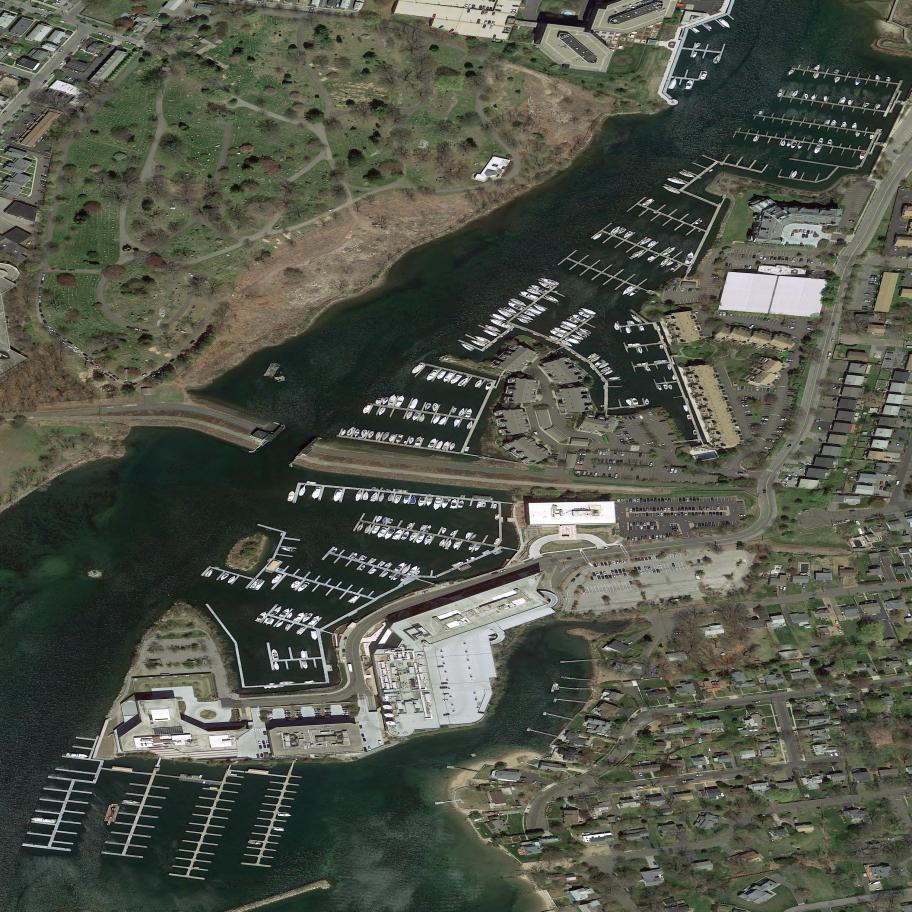large-vehicle: (144, 374, 158, 382), (346, 663, 354, 673), (695, 573, 701, 581), (378, 739, 382, 745)
ship: (248, 574, 267, 595), (488, 317, 514, 331), (409, 358, 428, 377), (424, 365, 442, 385), (517, 289, 541, 303), (305, 613, 324, 630), (446, 370, 464, 387), (294, 578, 312, 595), (373, 524, 390, 541), (661, 243, 679, 259), (628, 247, 647, 262), (539, 276, 562, 288), (665, 176, 690, 187), (661, 183, 682, 196), (455, 374, 472, 390), (440, 369, 456, 386), (298, 609, 315, 625), (291, 609, 307, 626), (716, 15, 734, 30), (382, 525, 397, 543), (628, 311, 646, 326), (406, 563, 422, 579), (288, 576, 304, 592), (254, 608, 269, 625), (472, 333, 493, 345), (483, 322, 504, 334), (393, 559, 408, 575), (269, 603, 285, 618), (620, 283, 637, 297), (458, 342, 477, 354), (491, 312, 510, 324), (557, 337, 576, 349), (495, 308, 514, 320), (501, 304, 520, 316), (269, 571, 284, 586), (385, 391, 398, 408), (311, 485, 324, 502), (391, 526, 404, 543), (637, 235, 654, 248), (569, 312, 589, 323), (509, 296, 529, 307), (529, 283, 549, 294), (548, 328, 566, 340), (360, 402, 374, 417), (400, 562, 414, 577), (278, 605, 292, 620), (620, 227, 635, 241), (525, 305, 544, 316), (563, 335, 582, 346), (579, 305, 598, 316), (560, 319, 579, 330), (407, 396, 420, 412), (393, 393, 406, 409), (531, 302, 548, 314), (544, 293, 561, 305), (332, 487, 344, 504), (677, 169, 697, 179), (506, 301, 524, 312), (608, 223, 622, 237), (434, 368, 447, 383), (410, 409, 423, 424), (450, 537, 463, 552), (354, 519, 367, 534), (644, 237, 659, 250), (641, 196, 656, 209), (432, 496, 444, 512), (30, 817, 57, 824), (482, 327, 499, 338), (573, 329, 590, 340), (576, 309, 593, 320), (536, 280, 553, 291), (407, 529, 420, 543), (217, 570, 231, 583), (469, 339, 487, 349), (525, 287, 543, 297), (667, 76, 679, 91), (426, 436, 438, 451), (379, 429, 391, 444), (297, 483, 309, 498), (415, 531, 427, 546), (423, 532, 435, 547), (565, 315, 581, 326), (65, 753, 90, 760), (518, 312, 535, 322), (437, 414, 450, 427), (628, 286, 641, 299), (376, 404, 388, 418), (430, 413, 442, 427), (413, 434, 425, 448), (370, 523, 382, 537), (399, 528, 411, 542), (346, 594, 360, 606), (203, 566, 215, 580), (262, 615, 276, 627), (668, 261, 682, 273), (596, 360, 611, 371), (363, 521, 374, 536), (684, 250, 695, 265), (515, 315, 531, 325), (473, 377, 485, 390), (658, 256, 671, 268), (463, 406, 474, 420), (368, 490, 379, 504), (435, 438, 446, 452), (394, 432, 405, 446), (465, 418, 476, 432), (645, 252, 659, 263), (522, 309, 539, 318), (552, 326, 569, 335), (588, 354, 603, 364), (569, 333, 585, 342), (577, 326, 593, 335), (295, 625, 307, 637), (712, 53, 723, 66), (441, 497, 452, 510), (684, 79, 695, 92), (443, 537, 454, 550), (468, 530, 479, 543), (585, 351, 599, 361), (559, 323, 573, 333), (417, 496, 428, 508), (226, 573, 237, 585), (484, 379, 494, 392), (602, 367, 615, 377), (404, 410, 414, 423), (702, 21, 715, 31), (393, 493, 403, 506), (376, 491, 386, 504), (441, 439, 451, 452), (270, 648, 280, 661), (616, 226, 629, 236), (449, 560, 465, 568), (869, 879, 885, 887), (279, 546, 297, 553), (456, 406, 466, 418), (546, 334, 561, 342), (813, 143, 823, 155), (417, 412, 427, 424), (449, 498, 459, 510), (699, 69, 709, 81), (473, 541, 483, 553), (437, 536, 447, 548), (492, 536, 502, 548), (122, 799, 142, 805), (664, 258, 676, 268), (599, 365, 612, 374), (593, 358, 606, 367), (457, 498, 466, 511), (464, 555, 478, 563), (368, 566, 378, 577), (786, 67, 796, 78), (350, 550, 360, 561), (274, 619, 285, 629), (789, 139, 799, 150), (360, 428, 369, 440), (357, 564, 367, 574), (392, 572, 402, 582), (383, 560, 393, 570), (283, 622, 293, 632), (423, 401, 432, 412), (381, 395, 390, 406), (374, 394, 383, 405), (693, 40, 702, 51), (850, 120, 859, 131), (448, 441, 457, 452), (367, 429, 376, 440), (352, 428, 361, 439), (452, 418, 461, 429), (424, 523, 433, 534), (374, 514, 383, 525), (693, 218, 704, 227), (790, 169, 799, 180), (374, 430, 382, 442), (287, 490, 295, 502), (380, 570, 390, 579), (368, 557, 378, 566), (691, 26, 701, 35), (791, 89, 800, 99), (833, 75, 842, 85), (812, 63, 821, 73), (354, 553, 364, 562), (330, 546, 339, 556), (285, 611, 294, 621), (299, 649, 308, 659), (858, 151, 867, 161), (857, 526, 866, 536), (624, 398, 633, 408), (426, 496, 434, 507), (402, 494, 410, 505), (386, 492, 394, 503), (839, 95, 847, 106), (481, 548, 492, 556), (388, 433, 396, 444), (346, 426, 354, 437), (468, 541, 476, 552), (381, 515, 389, 526), (273, 660, 281, 671), (797, 140, 805, 151), (355, 490, 362, 502), (387, 571, 396, 580), (398, 574, 407, 583), (378, 560, 387, 569), (360, 554, 369, 563), (413, 569, 422, 578), (627, 318, 636, 327), (475, 500, 483, 510), (409, 495, 417, 505), (854, 129, 862, 139), (810, 92, 818, 102), (407, 436, 415, 446), (339, 427, 347, 437), (464, 531, 472, 541), (449, 528, 457, 538), (387, 516, 395, 526), (310, 630, 318, 640), (301, 660, 309, 670), (779, 138, 787, 148), (632, 397, 640, 407), (362, 491, 369, 502), (874, 103, 882, 112), (854, 78, 862, 87), (419, 523, 427, 532), (406, 521, 414, 530), (278, 681, 296, 685), (817, 136, 825, 145), (681, 404, 689, 413), (785, 139, 793, 148), (636, 346, 644, 355), (614, 322, 622, 331), (432, 403, 439, 413), (777, 89, 784, 99), (636, 362, 649, 367), (862, 101, 870, 109), (451, 406, 458, 415), (840, 120, 847, 129), (829, 118, 836, 127), (824, 119, 833, 126), (813, 71, 820, 80), (855, 518, 862, 527), (644, 397, 651, 406), (645, 364, 652, 373), (510, 805, 525, 809), (627, 343, 642, 347), (692, 51, 699, 59), (248, 841, 262, 845), (826, 138, 833, 146), (752, 135, 759, 143), (656, 385, 664, 392), (624, 327, 632, 334), (441, 526, 447, 535), (692, 429, 699, 436), (639, 325, 646, 332), (662, 383, 669, 390), (273, 828, 285, 832), (686, 413, 692, 421), (306, 481, 318, 485), (277, 814, 292, 817), (654, 360, 669, 363), (494, 513, 500, 520), (492, 503, 498, 510), (697, 737, 703, 744), (482, 501, 487, 509), (749, 728, 759, 732), (667, 363, 672, 371), (608, 377, 621, 380), (303, 681, 315, 684), (595, 732, 604, 736), (719, 792, 725, 798), (659, 344, 665, 350), (848, 99, 853, 106), (886, 76, 891, 83), (833, 69, 840, 74), (107, 820, 112, 827), (672, 374, 677, 381), (823, 96, 828, 102), (869, 134, 875, 139), (757, 110, 763, 115), (804, 93, 809, 99), (875, 74, 880, 80), (198, 774, 203, 780), (668, 384, 673, 390), (617, 817, 622, 822), (111, 803, 119, 806), (875, 888, 882, 891), (878, 129, 883, 133), (268, 683, 276, 685), (651, 672, 655, 676), (653, 669, 657, 673)
small-vehicle: (472, 816, 486, 824), (108, 374, 118, 383), (531, 778, 539, 786), (155, 12, 163, 20), (188, 338, 196, 346), (785, 443, 793, 451), (748, 323, 756, 331), (627, 639, 635, 647), (140, 371, 149, 378), (59, 59, 66, 67), (76, 351, 84, 358), (871, 666, 878, 674), (574, 572, 581, 580), (96, 32, 107, 37), (804, 461, 813, 467), (797, 466, 806, 472), (682, 779, 695, 783), (897, 579, 907, 584), (438, 24, 445, 31), (51, 90, 58, 97), (57, 91, 64, 98), (1, 109, 8, 116), (187, 271, 194, 278), (164, 361, 171, 368), (179, 348, 186, 355), (169, 357, 176, 364), (832, 384, 839, 391), (791, 471, 798, 478), (112, 375, 120, 381), (669, 467, 675, 475), (593, 470, 599, 478), (37, 189, 45, 195), (497, 812, 506, 817), (32, 11, 41, 16), (797, 461, 806, 466), (10, 197, 19, 202), (29, 112, 38, 117), (835, 520, 844, 525), (449, 27, 455, 34), (514, 799, 521, 805), (68, 51, 74, 58), (57, 48, 64, 54), (106, 44, 112, 51), (43, 164, 50, 170), (12, 112, 18, 119), (63, 2, 69, 9), (99, 368, 106, 374), (84, 356, 90, 363), (82, 352, 89, 358), (77, 348, 84, 354), (61, 339, 67, 346), (61, 336, 68, 342), (158, 366, 165, 372), (533, 430, 539, 437), (832, 396, 838, 403), (817, 425, 823, 432), (906, 409, 912, 416), (780, 320, 786, 327), (782, 462, 788, 469), (863, 526, 869, 533), (799, 440, 805, 447), (766, 317, 772, 324), (41, 136, 47, 143), (819, 260, 826, 266), (617, 567, 623, 574), (610, 568, 616, 575), (595, 570, 601, 577), (636, 556, 642, 563), (621, 567, 627, 574), (664, 532, 670, 539), (592, 561, 598, 568), (9, 73, 17, 78), (114, 31, 122, 36), (72, 69, 80, 74), (58, 20, 68, 24), (30, 4, 38, 9), (129, 382, 139, 386), (125, 325, 133, 330), (771, 434, 781, 438), (491, 571, 499, 576), (695, 612, 705, 616), (751, 700, 761, 704), (844, 518, 852, 523), (490, 20, 496, 26), (98, 53, 104, 59), (76, 42, 82, 48), (23, 120, 32, 124), (44, 88, 50, 94), (48, 88, 54, 94), (104, 372, 110, 378), (107, 370, 113, 376), (95, 364, 101, 370), (73, 345, 79, 351), (48, 330, 54, 336), (46, 324, 52, 330), (743, 410, 752, 414), (623, 416, 629, 422), (827, 351, 833, 357), (634, 414, 640, 420), (878, 485, 884, 491), (648, 411, 654, 417), (848, 219, 857, 223), (791, 257, 797, 263), (834, 619, 840, 625), (828, 752, 834, 758), (643, 556, 649, 562), (608, 574, 614, 580), (634, 792, 640, 798), (476, 18, 481, 25), (172, 32, 179, 37), (122, 33, 129, 38), (92, 24, 99, 29), (80, 20, 87, 25), (153, 17, 158, 24), (54, 1, 61, 6), (41, 172, 48, 177), (40, 175, 47, 180), (39, 180, 46, 185), (39, 182, 46, 187), (13, 132, 20, 137), (38, 7, 45, 12), (89, 361, 96, 366), (895, 479, 900, 486), (787, 471, 792, 478), (817, 438, 824, 443), (827, 603, 832, 610), (673, 553, 680, 558), (639, 569, 644, 576), (597, 574, 602, 581), (569, 578, 576, 583), (784, 482, 789, 489), (188, 14, 196, 18), (284, 711, 292, 715), (133, 328, 141, 332), (618, 438, 626, 442), (659, 419, 667, 423), (620, 440, 628, 444), (629, 440, 637, 444), (671, 439, 679, 443), (658, 443, 666, 447), (602, 546, 610, 550), (443, 712, 451, 716), (787, 325, 795, 329), (575, 875, 583, 879), (780, 480, 788, 484), (343, 636, 349, 641), (482, 23, 487, 29), (43, 79, 48, 85), (74, 78, 79, 84), (64, 75, 70, 80), (71, 77, 76, 83), (41, 177, 46, 183), (50, 71, 55, 77), (64, 94, 69, 100), (67, 344, 73, 349), (89, 357, 95, 362), (67, 340, 73, 345), (50, 328, 56, 333), (873, 352, 878, 358), (614, 473, 619, 479), (613, 451, 618, 457), (620, 452, 626, 457), (638, 452, 643, 458), (582, 590, 587, 596), (764, 776, 769, 782), (646, 835, 651, 841), (763, 255, 768, 261), (688, 287, 693, 293), (782, 586, 788, 591), (906, 612, 912, 617), (866, 664, 872, 669), (838, 629, 844, 634), (655, 568, 660, 574), (666, 695, 671, 701), (842, 672, 847, 678), (834, 752, 840, 757), (652, 569, 658, 574), (622, 573, 628, 578), (614, 568, 619, 574), (604, 574, 609, 580), (612, 573, 617, 579), (637, 565, 642, 571), (647, 564, 652, 570), (671, 562, 676, 568), (680, 768, 685, 774), (638, 772, 644, 777), (647, 534, 652, 540), (898, 867, 903, 873), (600, 562, 606, 567), (604, 561, 609, 567), (608, 560, 613, 566), (612, 560, 617, 566), (619, 559, 624, 565), (788, 476, 793, 482), (494, 8, 501, 12), (44, 157, 51, 161), (1, 71, 8, 75), (106, 35, 113, 39), (124, 41, 131, 45), (45, 9, 52, 13), (18, 7, 25, 11), (616, 433, 623, 437), (647, 441, 654, 445), (769, 439, 776, 443), (626, 436, 633, 440), (788, 350, 795, 354), (902, 398, 909, 402), (628, 438, 635, 442), (566, 415, 573, 419), (619, 427, 626, 431), (622, 430, 629, 434), (899, 408, 906, 412), (501, 569, 508, 573), (422, 590, 429, 594), (442, 692, 449, 696), (830, 761, 837, 765), (789, 321, 796, 325), (815, 692, 822, 696), (503, 27, 512, 30), (341, 706, 350, 709), (341, 708, 350, 711), (863, 293, 872, 296), (519, 776, 528, 779), (738, 514, 747, 517), (484, 11, 489, 16), (489, 25, 494, 30), (185, 16, 190, 21), (80, 38, 85, 43), (40, 280, 45, 285), (42, 272, 47, 277), (61, 94, 66, 99), (94, 360, 99, 365), (72, 348, 77, 353), (56, 336, 61, 341), (56, 332, 61, 337), (42, 319, 47, 324), (631, 415, 636, 420), (831, 337, 836, 342), (628, 416, 633, 421), (903, 418, 908, 423), (888, 440, 893, 445), (601, 459, 606, 464), (602, 451, 607, 456), (608, 473, 613, 478), (882, 487, 887, 492), (785, 475, 790, 480), (535, 45, 540, 50), (521, 779, 526, 784), (773, 256, 778, 261), (741, 254, 746, 259), (811, 270, 816, 275), (718, 312, 723, 317), (779, 585, 784, 590), (640, 674, 645, 679), (663, 554, 668, 559), (647, 556, 652, 561), (658, 564, 663, 569), (652, 861, 657, 866), (710, 497, 715, 502), (685, 498, 690, 503), (639, 498, 644, 503), (596, 562, 601, 567), (693, 523, 698, 528), (342, 648, 346, 654), (481, 10, 485, 16), (67, 77, 73, 81), (22, 122, 30, 125), (39, 14, 47, 17), (284, 714, 292, 717), (265, 711, 273, 714), (124, 381, 132, 384), (155, 371, 163, 374), (760, 420, 768, 423), (742, 404, 750, 407), (745, 414, 753, 417), (760, 422, 768, 425), (762, 418, 770, 421), (774, 430, 782, 433), (764, 446, 770, 450), (831, 321, 835, 327), (885, 358, 893, 361), (886, 351, 894, 354), (623, 433, 631, 436), (883, 456, 891, 459), (889, 462, 897, 465), (662, 467, 670, 470), (579, 453, 587, 456), (578, 455, 586, 458), (577, 457, 585, 460), (884, 474, 892, 477), (648, 462, 654, 466), (602, 472, 606, 478), (872, 493, 880, 496), (760, 451, 768, 454), (562, 534, 570, 537), (441, 682, 449, 685), (440, 686, 448, 689), (903, 529, 907, 535), (642, 836, 646, 842), (711, 274, 719, 277), (336, 2, 340, 8), (801, 233, 805, 239), (770, 741, 778, 744), (760, 728, 768, 731), (641, 556, 645, 562), (696, 774, 704, 777), (635, 507, 639, 513), (670, 528, 678, 531), (632, 521, 636, 527), (698, 522, 702, 528), (496, 5, 503, 8), (511, 9, 518, 12), (510, 11, 517, 14), (503, 29, 510, 32), (502, 31, 509, 34), (493, 811, 500, 814), (308, 7, 315, 10), (257, 1, 264, 4), (314, 708, 321, 711), (314, 710, 321, 713), (314, 712, 321, 715), (325, 711, 332, 714), (266, 713, 273, 716), (142, 329, 149, 332), (778, 426, 785, 429), (786, 359, 793, 362), (668, 433, 675, 436), (807, 321, 814, 324), (437, 665, 444, 668), (807, 323, 814, 326), (809, 597, 816, 600), (711, 610, 718, 613), (588, 792, 595, 795), (888, 837, 895, 840), (670, 526, 677, 529), (482, 5, 486, 10), (478, 5, 482, 10), (342, 654, 347, 658), (467, 9, 471, 14), (493, 34, 497, 39), (484, 19, 488, 24), (492, 11, 496, 16), (38, 293, 42, 298), (363, 747, 367, 752), (361, 733, 365, 738), (38, 308, 42, 313), (256, 753, 260, 758), (267, 744, 271, 749), (262, 740, 266, 745), (263, 744, 267, 749), (744, 396, 749, 400), (762, 490, 767, 494), (741, 386, 745, 391), (755, 387, 760, 391), (893, 430, 897, 435), (609, 459, 613, 464), (636, 475, 640, 480), (630, 467, 635, 471), (590, 576, 594, 581), (726, 520, 730, 525), (791, 775, 795, 780), (729, 263, 733, 268), (781, 256, 785, 261), (778, 256, 782, 261), (770, 256, 774, 261), (759, 255, 763, 260), (744, 265, 749, 269), (673, 287, 677, 292), (894, 247, 898, 252), (806, 229, 810, 234), (799, 229, 803, 234), (702, 506, 706, 511), (698, 506, 702, 511), (802, 584, 806, 589), (603, 570, 607, 575), (634, 566, 638, 571), (644, 566, 649, 570), (566, 804, 570, 809), (652, 507, 657, 511), (642, 507, 646, 512), (639, 507, 643, 512), (629, 507, 633, 512), (667, 498, 672, 502), (664, 498, 668, 503), (650, 498, 654, 503), (643, 498, 647, 503), (656, 507, 660, 512), (645, 513, 650, 517), (660, 507, 664, 512), (716, 511, 720, 516), (712, 512, 716, 517), (655, 513, 660, 517), (695, 512, 699, 517), (684, 512, 688, 517), (663, 512, 667, 517), (629, 498, 633, 503), (634, 536, 638, 541), (662, 534, 666, 539), (659, 534, 663, 539), (644, 535, 648, 540), (616, 560, 620, 565), (623, 559, 627, 564), (711, 522, 716, 526), (708, 522, 712, 527), (705, 522, 709, 527), (701, 522, 705, 527), (654, 525, 658, 530), (646, 526, 651, 530), (646, 521, 650, 526), (50, 268, 56, 271), (325, 707, 331, 710), (285, 710, 291, 713), (905, 340, 911, 343), (791, 317, 797, 320), (849, 509, 855, 512), (710, 276, 719, 278), (489, 6, 493, 10), (486, 6, 490, 10), (468, 4, 472, 8), (464, 4, 468, 8), (432, 14, 436, 18), (59, 269, 67, 271), (68, 269, 76, 271), (341, 713, 349, 715), (363, 738, 367, 742), (269, 753, 273, 757), (266, 740, 270, 744), (258, 745, 262, 749), (258, 741, 262, 745), (885, 481, 889, 485), (880, 481, 884, 485), (896, 442, 900, 446), (716, 506, 720, 510), (597, 459, 601, 463), (616, 460, 620, 464), (589, 472, 593, 476), (608, 466, 612, 470), (793, 818, 797, 822), (697, 559, 701, 563), (785, 257, 789, 261), (752, 255, 756, 259), (681, 288, 685, 292), (722, 312, 726, 316), (807, 259, 811, 263), (810, 260, 814, 264), (805, 234, 809, 238), (791, 233, 795, 237), (869, 279, 877, 281), (692, 506, 696, 510), (673, 633, 681, 635), (601, 575, 605, 579), (646, 508, 650, 512), (635, 513, 639, 517), (679, 498, 683, 502), (661, 498, 665, 502), (646, 498, 650, 502), (702, 512, 706, 516), (681, 507, 685, 511), (678, 507, 682, 511), (698, 512, 702, 516), (688, 512, 692, 516), (677, 513, 681, 517), (636, 498, 640, 502), (655, 535, 659, 539), (651, 535, 655, 539), (640, 536, 644, 540), (626, 537, 630, 541), (669, 524, 677, 526), (643, 526, 647, 530), (640, 526, 644, 530), (650, 522, 654, 526), (639, 522, 643, 526), (636, 522, 640, 526), (39, 303, 42, 308), (260, 753, 263, 758), (41, 314, 44, 319), (800, 258, 803, 263), (600, 570, 603, 575), (655, 556, 660, 559), (654, 497, 657, 502), (720, 511, 723, 516), (709, 512, 712, 517), (633, 498, 636, 503), (650, 526, 655, 529), (652, 522, 657, 525), (512, 5, 519, 7), (325, 710, 332, 712), (295, 710, 302, 712), (762, 416, 769, 418), (782, 409, 789, 411), (780, 419, 787, 421), (776, 428, 783, 430), (788, 391, 795, 393), (889, 465, 896, 467), (737, 501, 744, 503), (577, 460, 584, 462), (577, 462, 584, 464), (442, 699, 449, 701), (807, 328, 814, 330), (862, 308, 869, 310), (862, 306, 869, 308), (864, 300, 871, 302), (868, 283, 875, 285), (869, 281, 876, 283), (870, 277, 877, 279), (870, 275, 877, 277), (472, 4, 475, 8), (488, 20, 491, 24), (38, 298, 41, 302), (39, 287, 42, 291), (296, 712, 302, 714), (344, 711, 350, 713), (267, 718, 273, 720), (360, 725, 363, 729), (767, 389, 771, 392), (787, 395, 793, 397), (707, 506, 710, 510), (815, 420, 821, 422), (749, 265, 752, 269), (852, 783, 855, 787), (620, 460, 623, 464), (811, 231, 814, 235), (689, 507, 692, 511), (690, 498, 693, 502), (649, 508, 653, 511), (632, 508, 635, 512), (696, 498, 700, 501), (683, 498, 686, 502), (658, 498, 661, 502), (685, 507, 688, 511), (671, 507, 674, 511), (668, 507, 671, 511), (664, 507, 667, 511), (692, 512, 695, 516), (680, 513, 684, 516), (670, 513, 674, 516), (667, 513, 670, 517), (659, 513, 663, 516), (673, 530, 679, 532), (631, 537, 634, 541), (629, 527, 633, 530), (629, 523, 633, 526), (643, 522, 646, 526), (297, 714, 302, 716), (613, 460, 616, 463), (803, 230, 806, 233), (693, 498, 696, 501), (674, 513, 677, 516), (741, 403, 749, 404)
